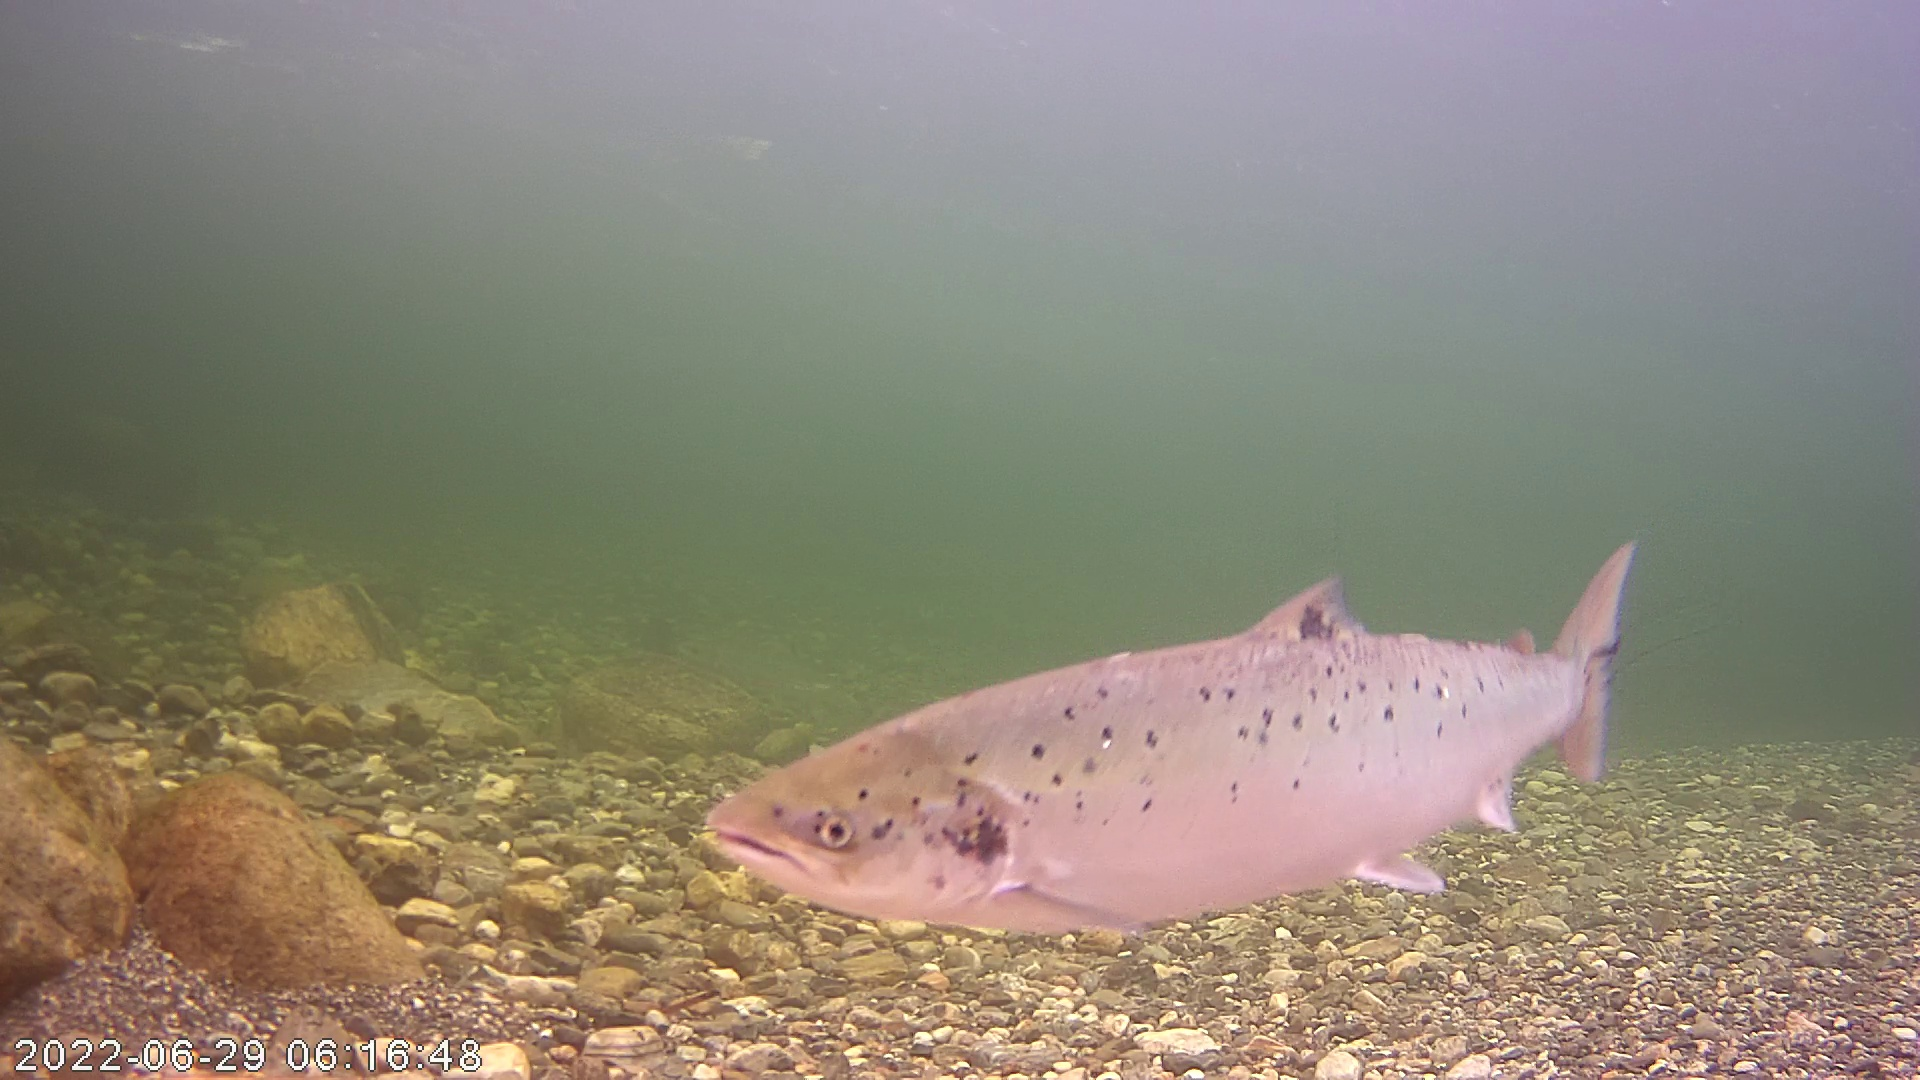salmon: (745, 480, 1630, 935)
